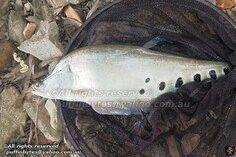Knifefish: (31, 41, 234, 114)
